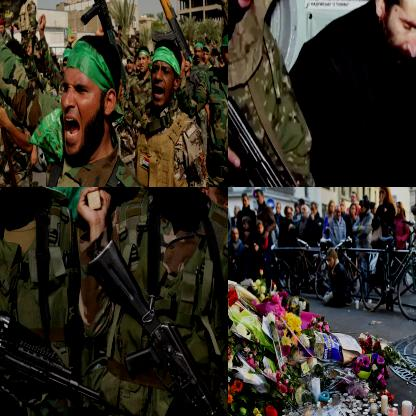rifle: (86, 238, 227, 415), (228, 52, 338, 186), (0, 284, 109, 408), (69, 0, 129, 87), (143, 0, 193, 59)
